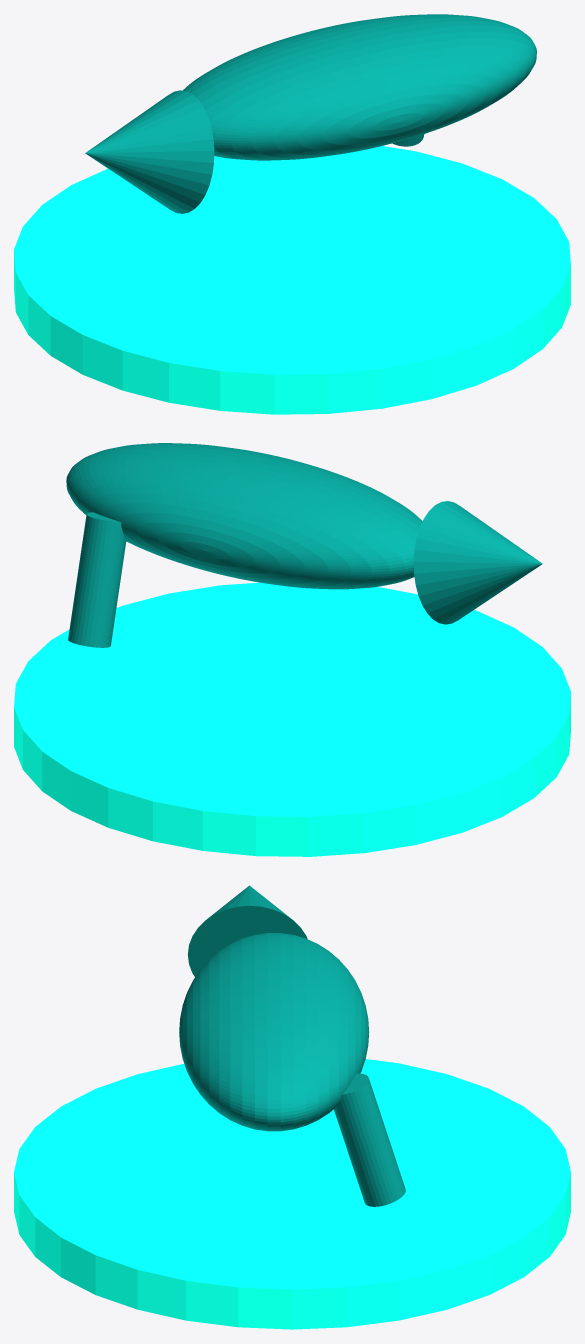
Rendered from fashion_high_heel.dae.
3 views of the same model, one above another, from view 1: azimuth 30°, elevation 25°; view 2: azimuth 150°, elevation 25°; view 3: azimuth 270°, elevation 25° (orthographic).
Parts seen in each view (by area): view 1: 06_11_Popular_Fashion_High_Heel_ROOT_base, 06_11_Popular_Fashion_High_Heel_part_01, 06_11_Popular_Fashion_High_Heel_part_03; view 2: 06_11_Popular_Fashion_High_Heel_ROOT_base, 06_11_Popular_Fashion_High_Heel_part_01, 06_11_Popular_Fashion_High_Heel_part_03, 06_11_Popular_Fashion_High_Heel_part_02; view 3: 06_11_Popular_Fashion_High_Heel_ROOT_base, 06_11_Popular_Fashion_High_Heel_part_01, 06_11_Popular_Fashion_High_Heel_part_02, 06_11_Popular_Fashion_High_Heel_part_03.
Part boxes in pixels (x1,y1,x2,y2): 06_11_Popular_Fashion_High_Heel_ROOT_base: (14,146,570,414); 06_11_Popular_Fashion_High_Heel_part_01: (183,14,536,160); 06_11_Popular_Fashion_High_Heel_part_03: (85,90,214,213); 06_11_Popular_Fashion_High_Heel_ROOT_base: (14,582,570,856); 06_11_Popular_Fashion_High_Heel_part_01: (66,443,422,589); 06_11_Popular_Fashion_High_Heel_part_03: (413,501,542,624); 06_11_Popular_Fashion_High_Heel_part_02: (68,512,126,647); 06_11_Popular_Fashion_High_Heel_ROOT_base: (14,1059,570,1329); 06_11_Popular_Fashion_High_Heel_part_01: (179,933,369,1131); 06_11_Popular_Fashion_High_Heel_part_02: (334,1073,405,1206); 06_11_Popular_Fashion_High_Heel_part_03: (187,885,307,976).
Bounding box in the file's own units: 0.76 × 0.3774 × 0.76.
